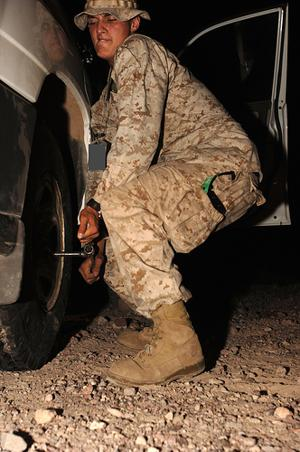person: (74, 3, 267, 389)
